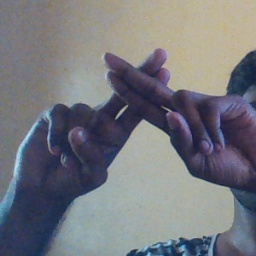F: (59, 42, 220, 170)
